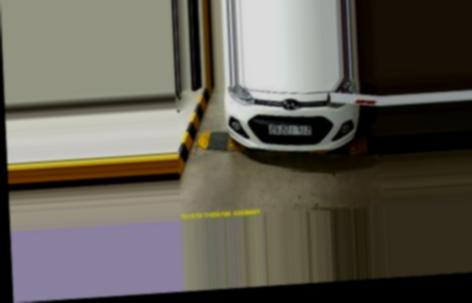License_Plate: (266, 121, 313, 137)
